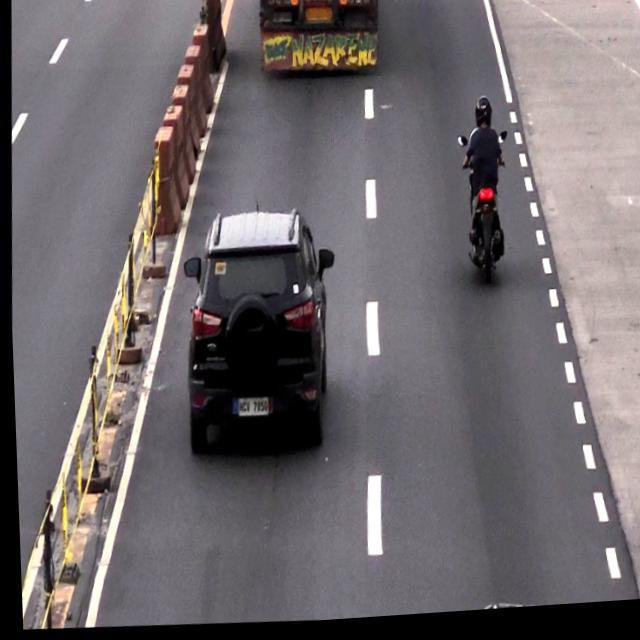Car: (178, 205, 331, 460)
License-Plate: (231, 396, 266, 423)
Motorcycle: (459, 105, 506, 285)
